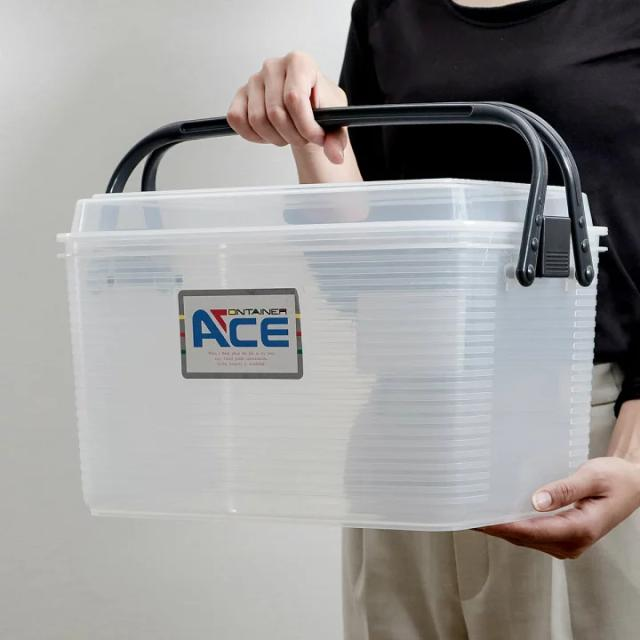plastic: (70, 106, 602, 532)
